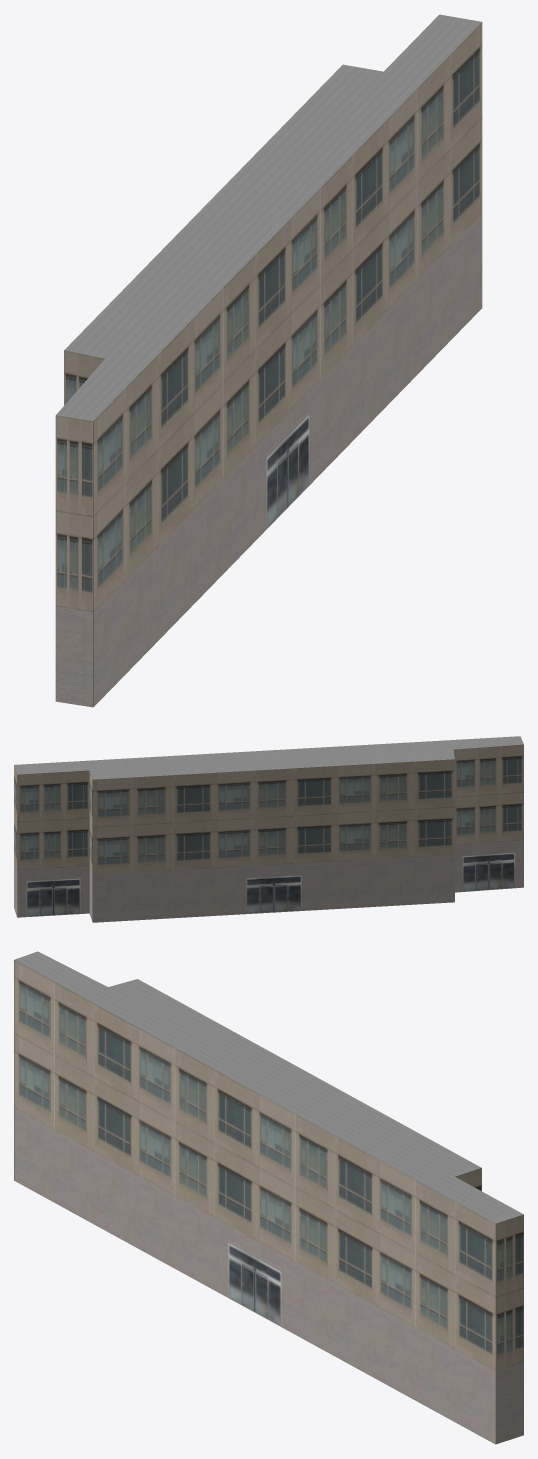
The picture shows the model from 3 angles, top to bottom: view 1: azimuth 30°, elevation 25°; view 2: azimuth 150°, elevation 25°; view 3: azimuth 270°, elevation 25°; orthographic projection. The views are drawn at different scales.
Visible parts, largest first — view 1: BuildingMaster_1975194043254464704100000000_0, BuildingMaster_1975194043254464704100000000_1; view 2: BuildingMaster_1975194043254464704100000000_0, BuildingMaster_1975194043254464704100000000_1; view 3: BuildingMaster_1975194043254464704100000000_0, BuildingMaster_1975194043254464704100000000_1.
Boxes of the visible parts, <box> form: BuildingMaster_1975194043254464704100000000_0: <box>55,22,482,707</box>; BuildingMaster_1975194043254464704100000000_1: <box>56,14,481,421</box>; BuildingMaster_1975194043254464704100000000_0: <box>14,744,523,922</box>; BuildingMaster_1975194043254464704100000000_1: <box>14,736,523,779</box>; BuildingMaster_1975194043254464704100000000_0: <box>14,960,523,1444</box>; BuildingMaster_1975194043254464704100000000_1: <box>14,951,523,1223</box>.
Size of the model in its own units: 27.78 by 10.5 by 21.98.
2 materials, 2 textured.
